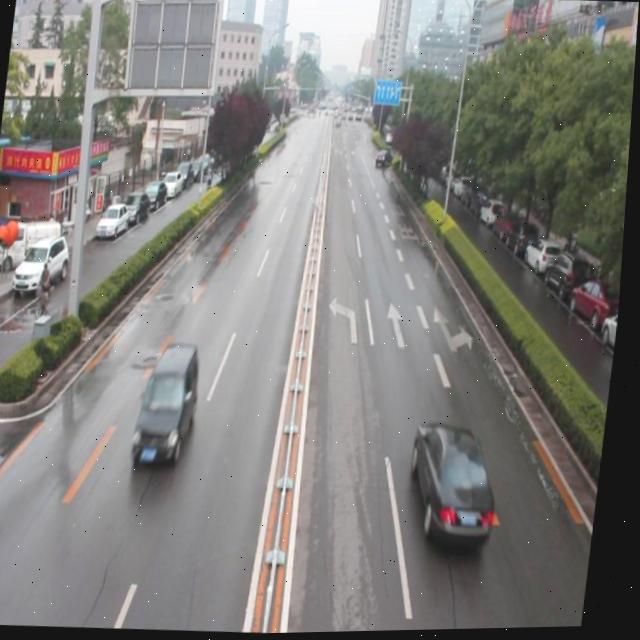car: (407, 421, 512, 551), (375, 148, 396, 171)
truck: (134, 345, 209, 474)
